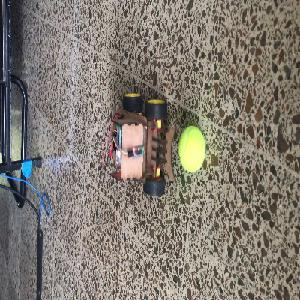Ball: (178, 126, 205, 172)
Robot: (110, 93, 175, 196)
